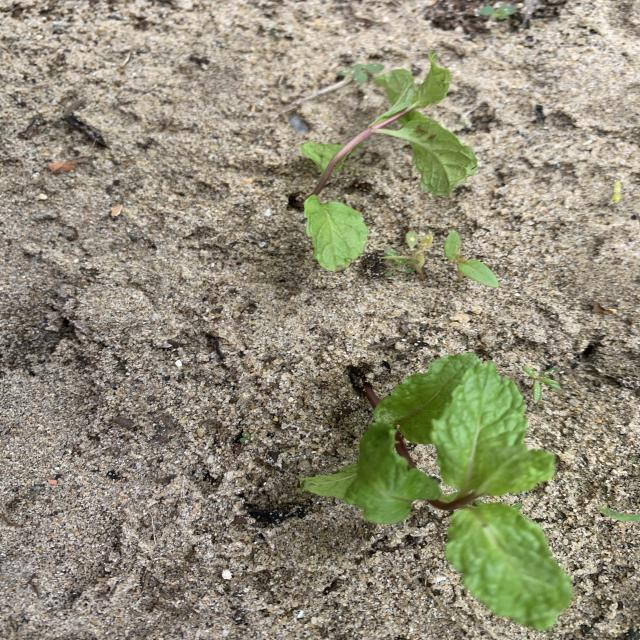crop: (301, 353, 571, 630), (302, 51, 477, 271)
weed: (444, 231, 498, 288), (381, 231, 433, 280), (522, 365, 562, 403), (344, 63, 384, 83), (599, 507, 640, 523), (608, 179, 628, 209), (480, 4, 516, 20)
